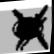not correct: (2, 2, 54, 54)
